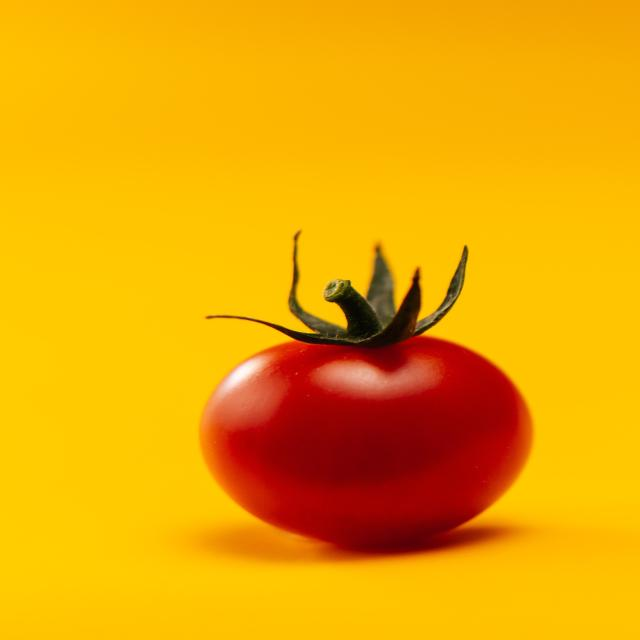Tomato: (207, 276, 561, 563)
